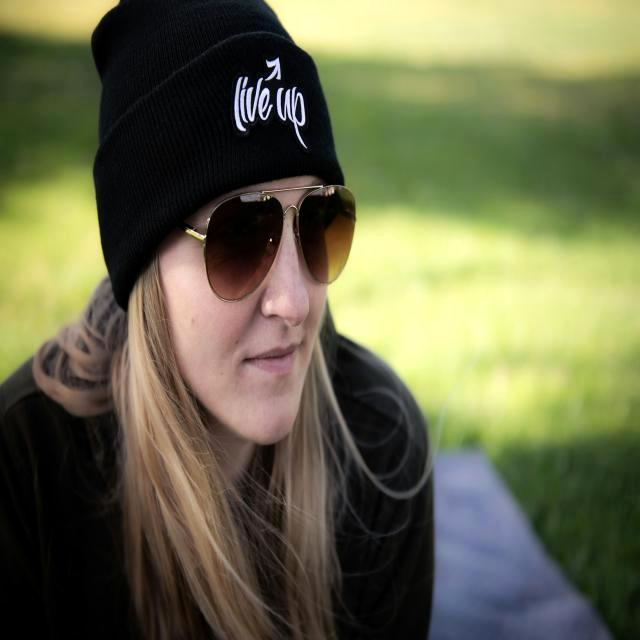no_hard_hat: (92, 0, 344, 309)
person: (0, 0, 611, 640)
